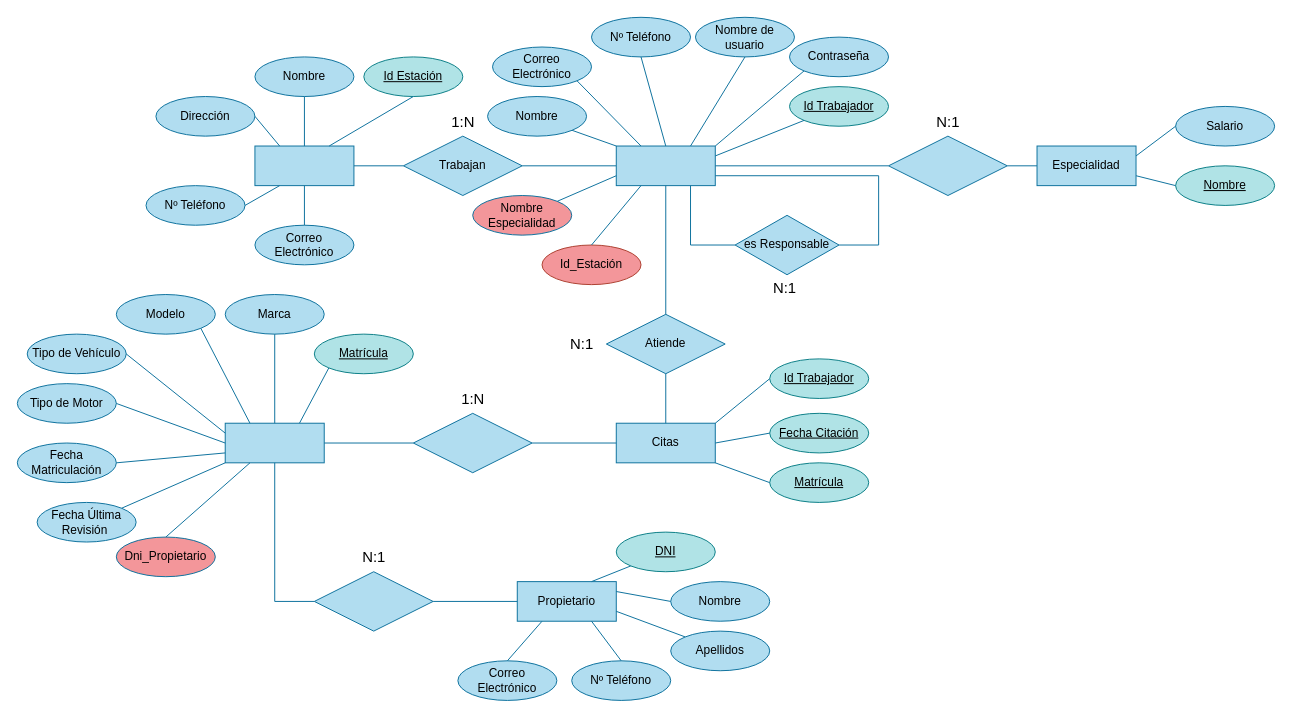
The diagram is 1292 pixels wide and 718 high, and some of its shapes have lost their labels. The centre of each missing label's shape, as x and y in pixels:
Asociadas: the point at 472,442
Estación: the point at 304,165
Pertenece: the point at 373,601
Tienen: the point at 947,165
Trabajadores: the point at 665,165
Vehículo: the point at 274,442
